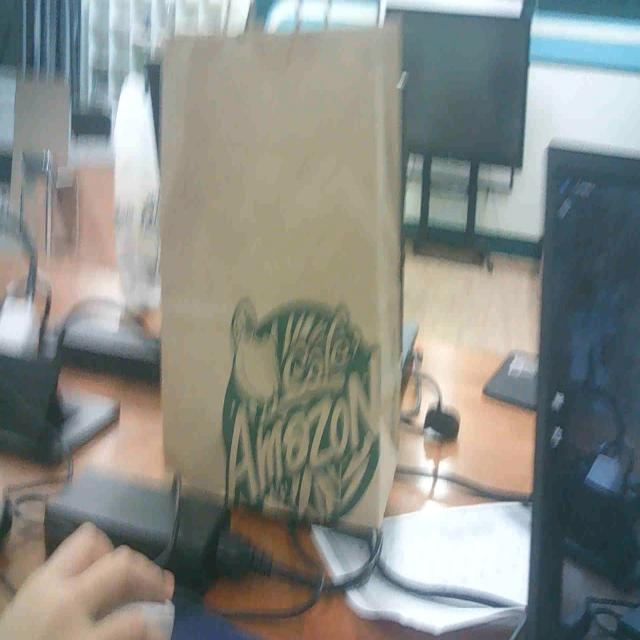bag: (156, 26, 413, 531)
